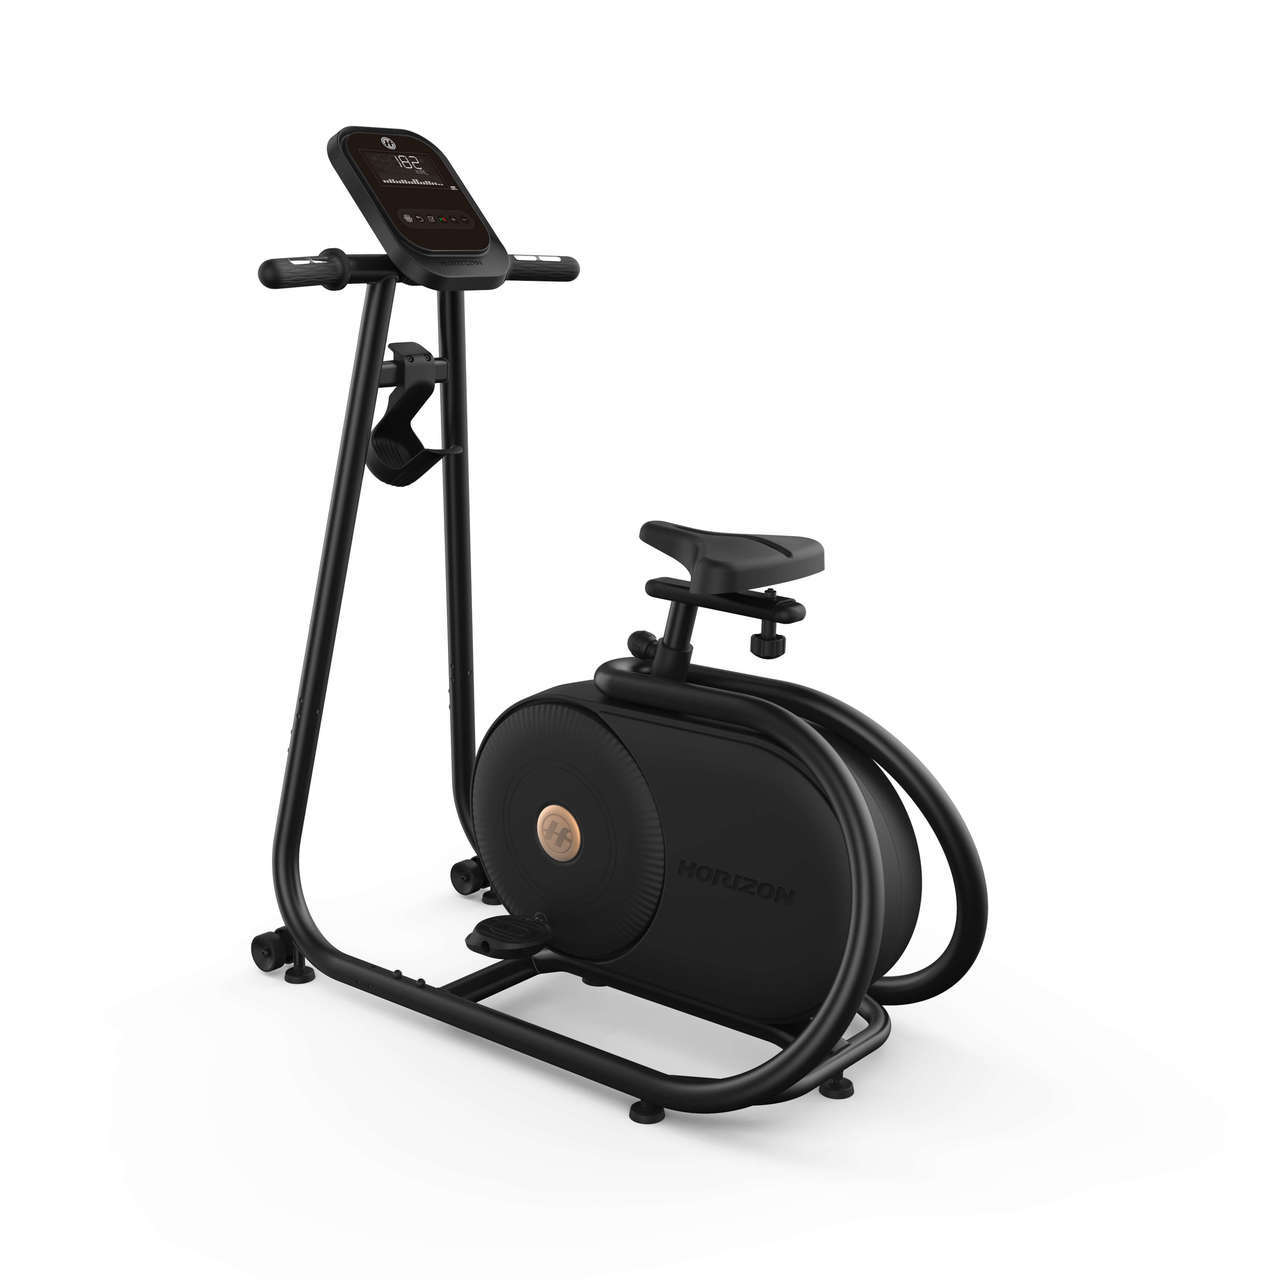gym_bike: (205, 93, 1017, 1160)
